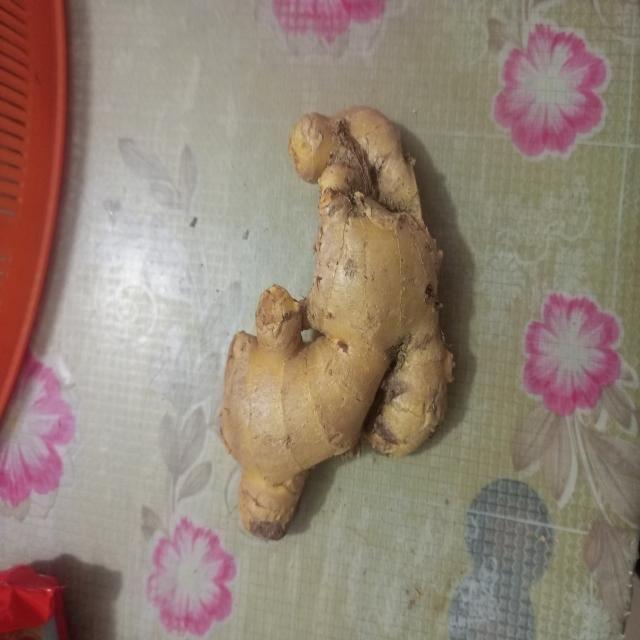ginger: (222, 110, 451, 540)
